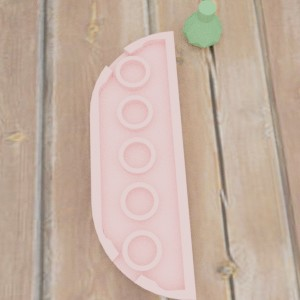lego: (89, 31, 196, 299), (182, 0, 222, 47)
